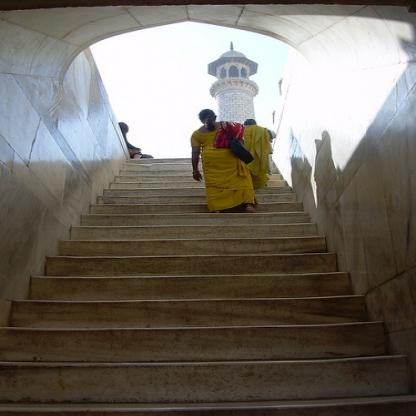stairs: (31, 247, 348, 413)
